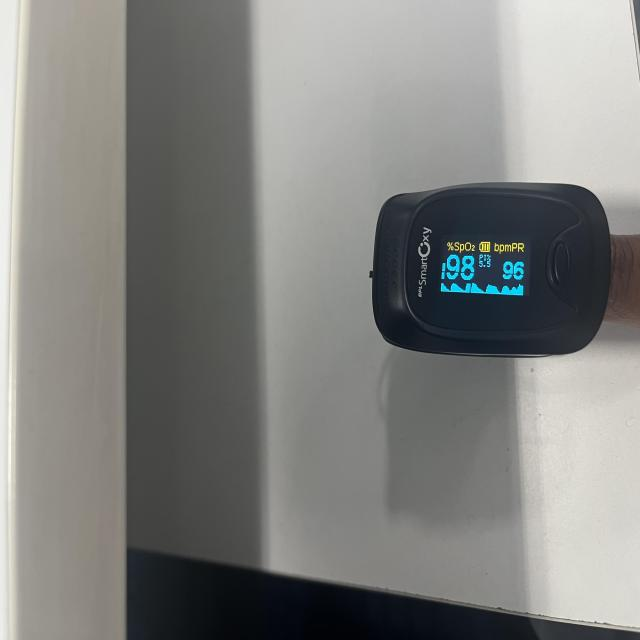spo2: (372, 184, 613, 359)
